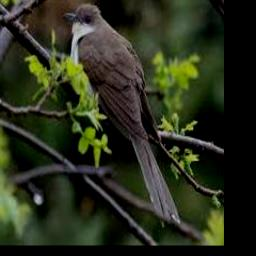Cuckoo: (63, 2, 181, 229)
